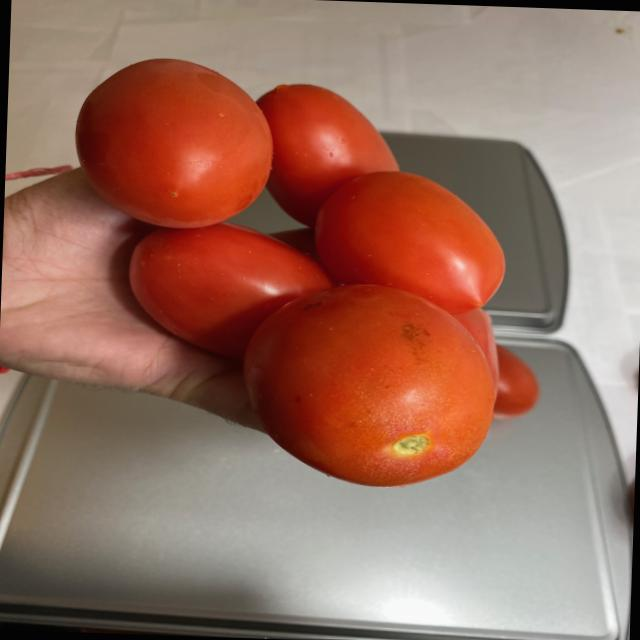tomato: (59, 54, 550, 489)
